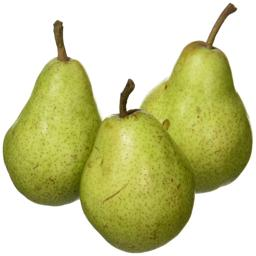Pear Fresh: (5, 2, 107, 232), (147, 0, 256, 195), (95, 73, 197, 251)
